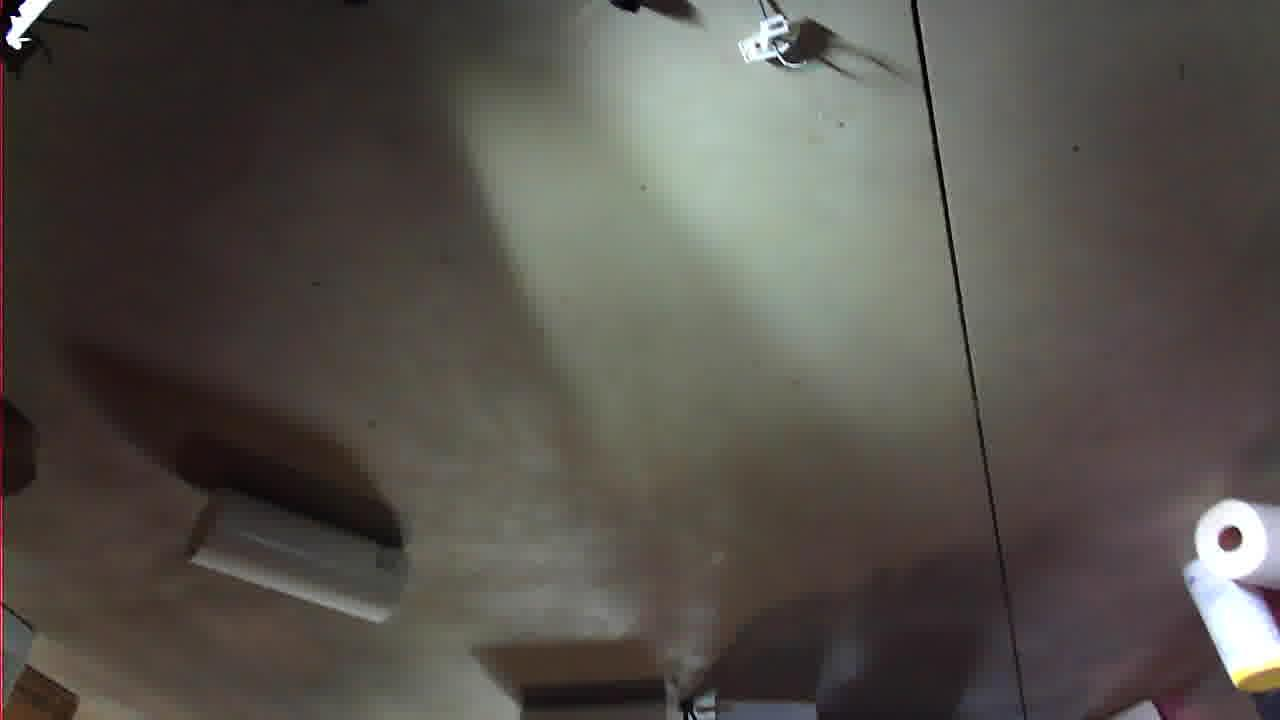coral: (873, 98, 1097, 235)
